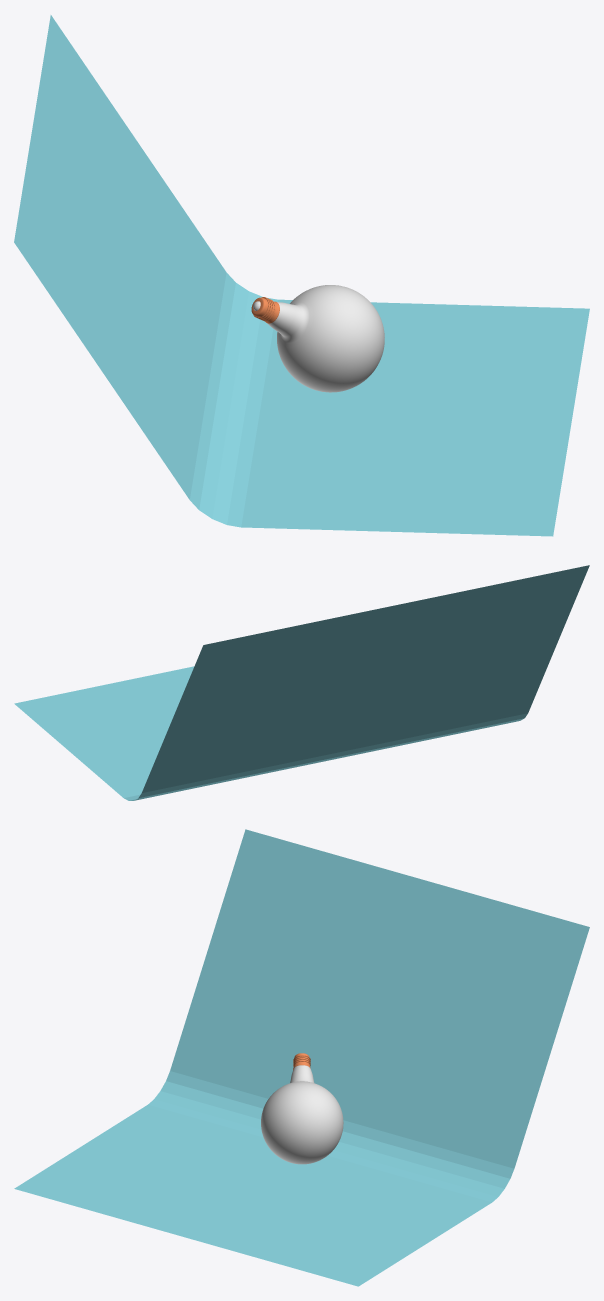
Rendered from Bulb.fbx.
3 views of the same model, one above another, from view 1: azimuth 30°, elevation 25°; view 2: azimuth 150°, elevation 25°; view 3: azimuth 270°, elevation 25° (orthographic). The views are drawn at different scales.
Parts seen in each view (by area): view 1: Plane, out bulb; view 2: Plane; view 3: Plane, out bulb.
Part boxes in pixels (left/top/right/bottom): Plane: left=14, top=15, right=589, bottom=536; out bulb: left=253, top=285, right=384, bottom=392; Plane: left=14, top=565, right=589, bottom=800; Plane: left=14, top=829, right=589, bottom=1286; out bulb: left=261, top=1065, right=343, bottom=1164.
Size of the model in its own units: 1913 by 784 by 1913.
